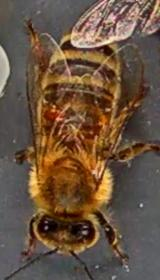varroa_mite: (42, 103, 66, 124)
